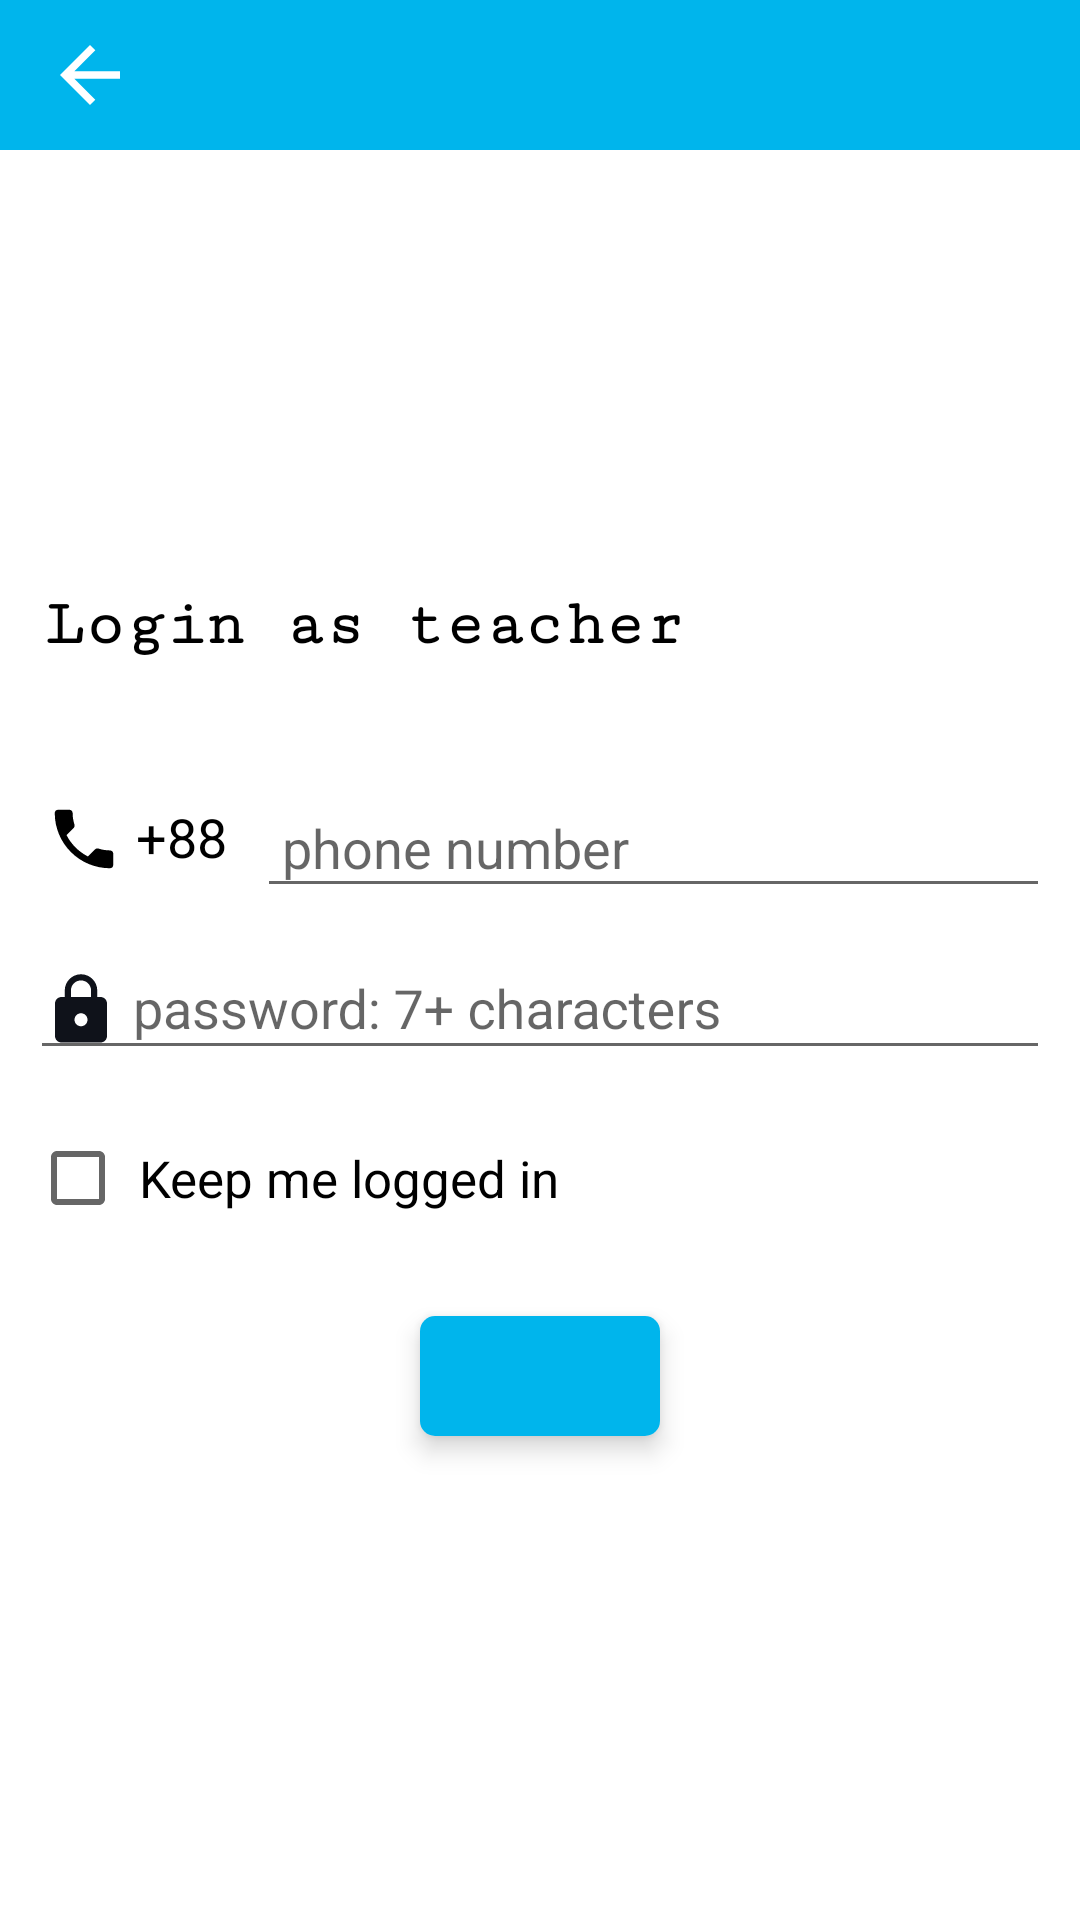

Icon click points for this 1080x1920 phone screenshot, format [x,y]:
arrow back: [90,75]
